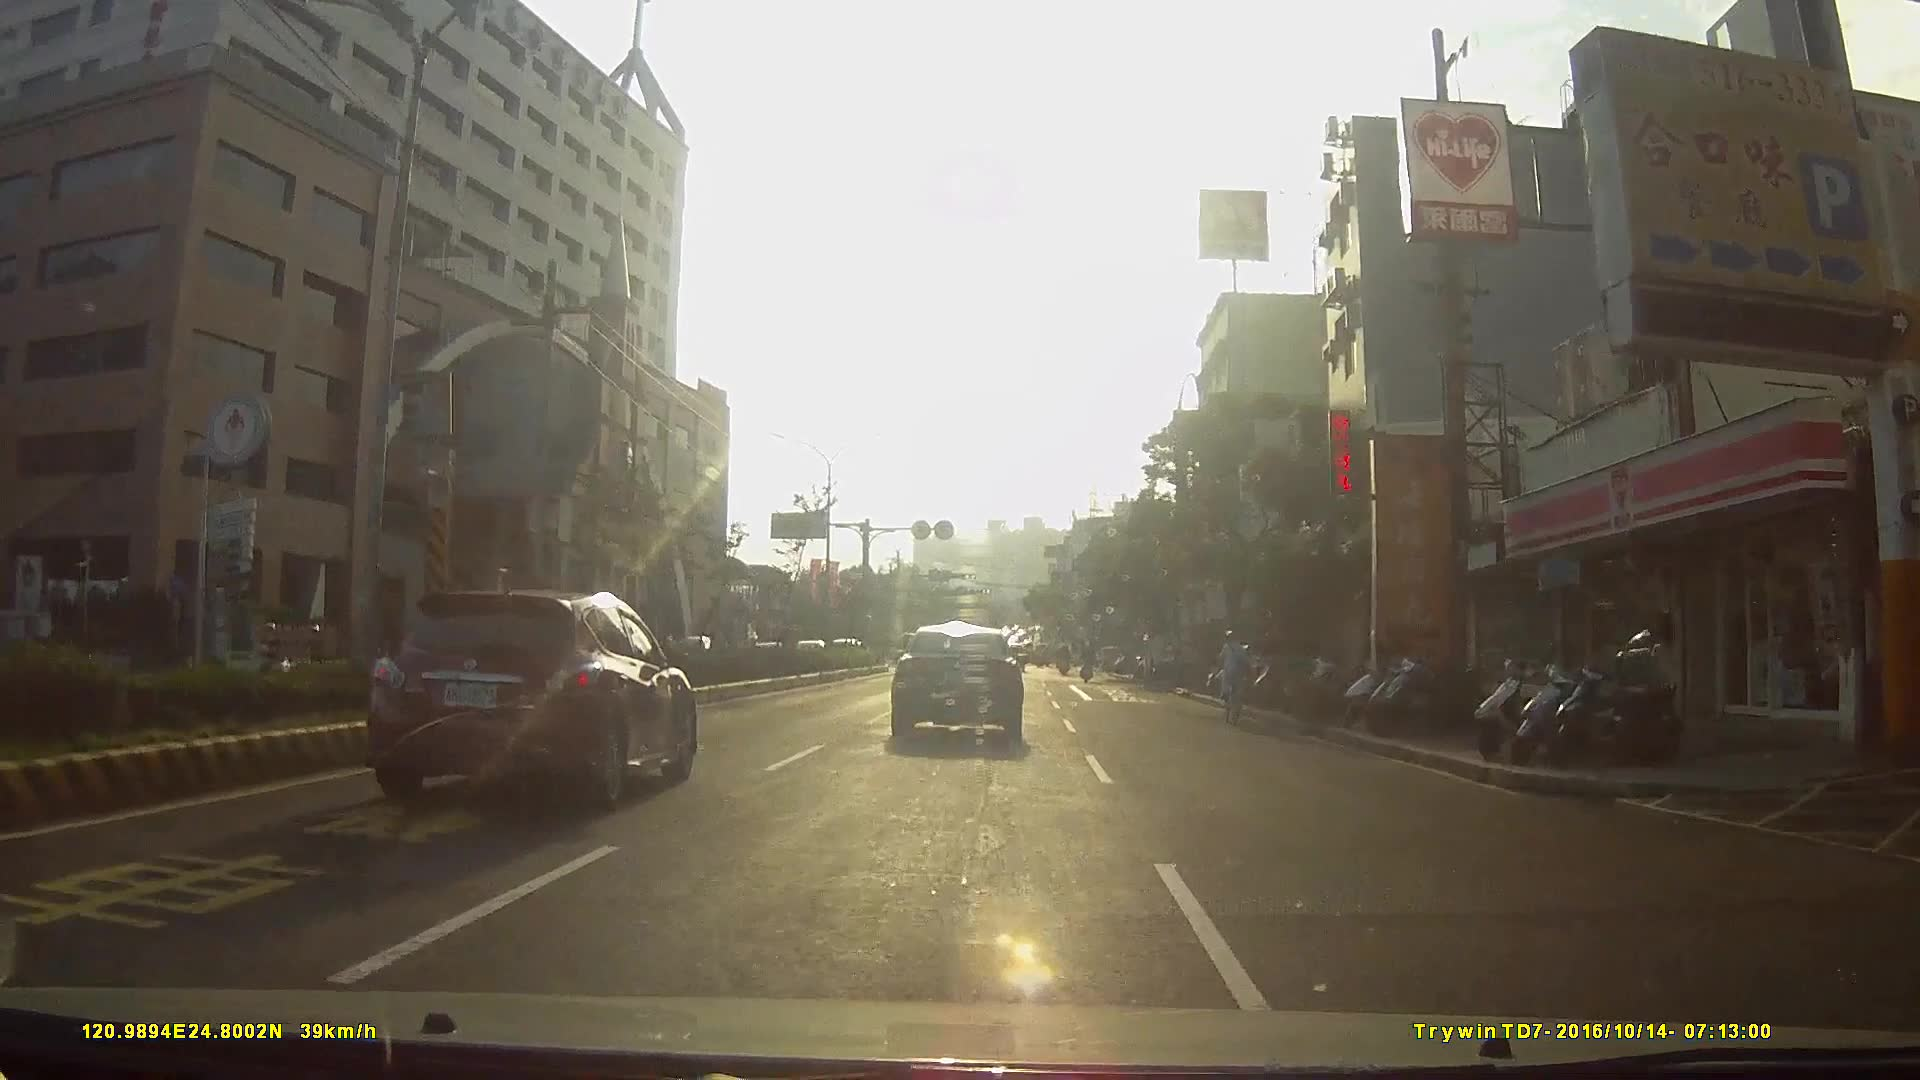rider: (1216, 630, 1255, 723), (246, 622, 295, 691)
vehicle: (356, 570, 715, 806), (888, 615, 1039, 748), (1137, 625, 1197, 684), (763, 607, 822, 662)
